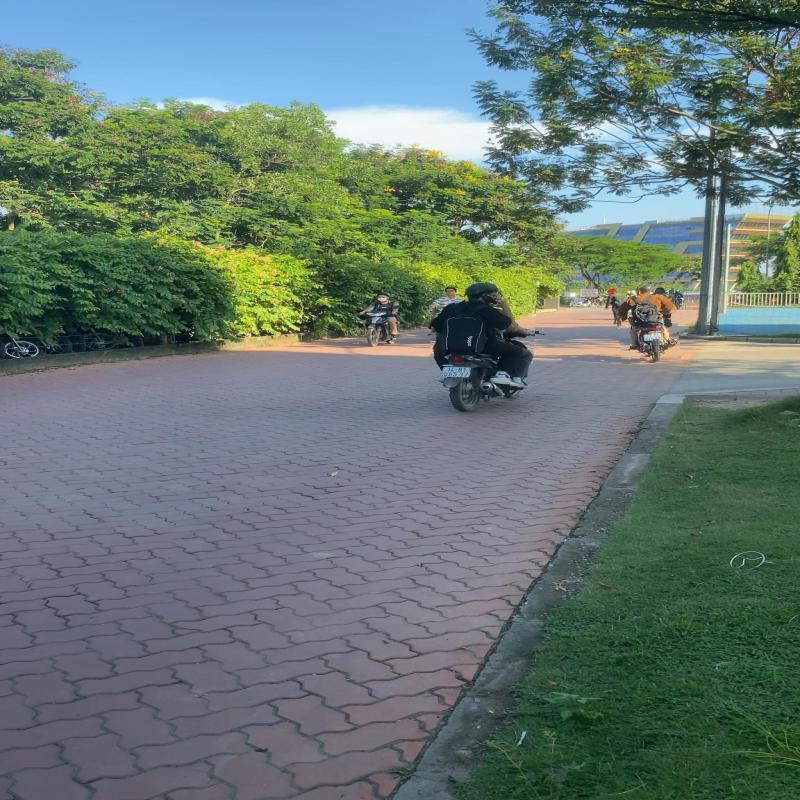helmet: (464, 281, 500, 303), (639, 284, 655, 294)
licenseplate: (440, 366, 471, 378), (641, 332, 662, 342)
motorcyclist: (428, 280, 536, 415), (616, 284, 680, 364)
